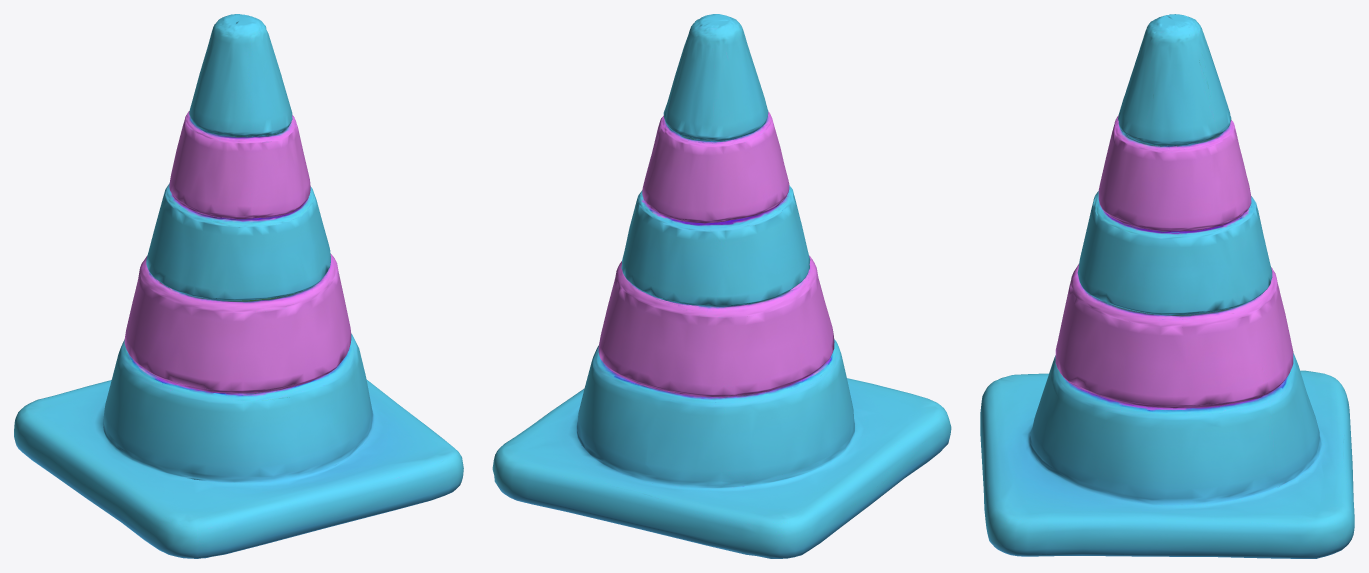
Rendered from neon_cone.glb.
3 renders of one model, left to right at view 1: azimuth 30°, elevation 25°; view 2: azimuth 150°, elevation 25°; view 3: azimuth 270°, elevation 25°, orthographic. The views are drawn at different scales.
Visible parts, largest first — view 1: tripo_node_8e57e1ac-dcdf-4d9d-90ca-5fe5bb9a4606; view 2: tripo_node_8e57e1ac-dcdf-4d9d-90ca-5fe5bb9a4606; view 3: tripo_node_8e57e1ac-dcdf-4d9d-90ca-5fe5bb9a4606.
Part boxes in pixels (x1=…): tripo_node_8e57e1ac-dcdf-4d9d-90ca-5fe5bb9a4606: x1=14, y1=14, x2=463, y2=558; tripo_node_8e57e1ac-dcdf-4d9d-90ca-5fe5bb9a4606: x1=492, y1=14, x2=951, y2=558; tripo_node_8e57e1ac-dcdf-4d9d-90ca-5fe5bb9a4606: x1=980, y1=14, x2=1354, y2=558.
Size of the model in its own units: 0.7324 by 0.998 by 0.7285.
1 material, 1 textured.
